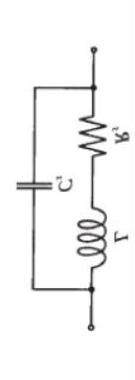inductor: (72, 199, 104, 268)
